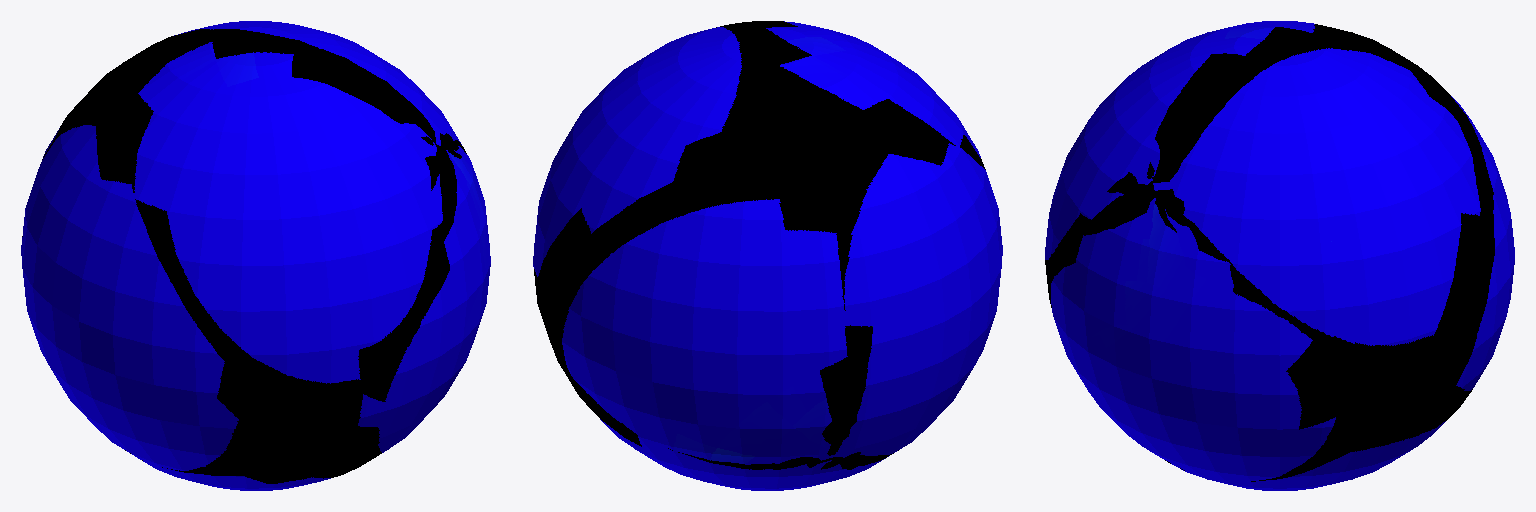
3 views of the same model, side by side, from view 1: azimuth 30°, elevation 25°; view 2: azimuth 150°, elevation 25°; view 3: azimuth 270°, elevation 25° (orthographic).
Parts seen in each view (by area): view 1: Sphere; view 2: Sphere; view 3: Sphere.
Boxes of the visible parts, <box> form: Sphere: <box>21,21,490,490</box>; Sphere: <box>533,21,1002,490</box>; Sphere: <box>1045,21,1514,490</box>.
Size of the model in its own units: 2 by 2 by 2.
1 materials, 1 textured.